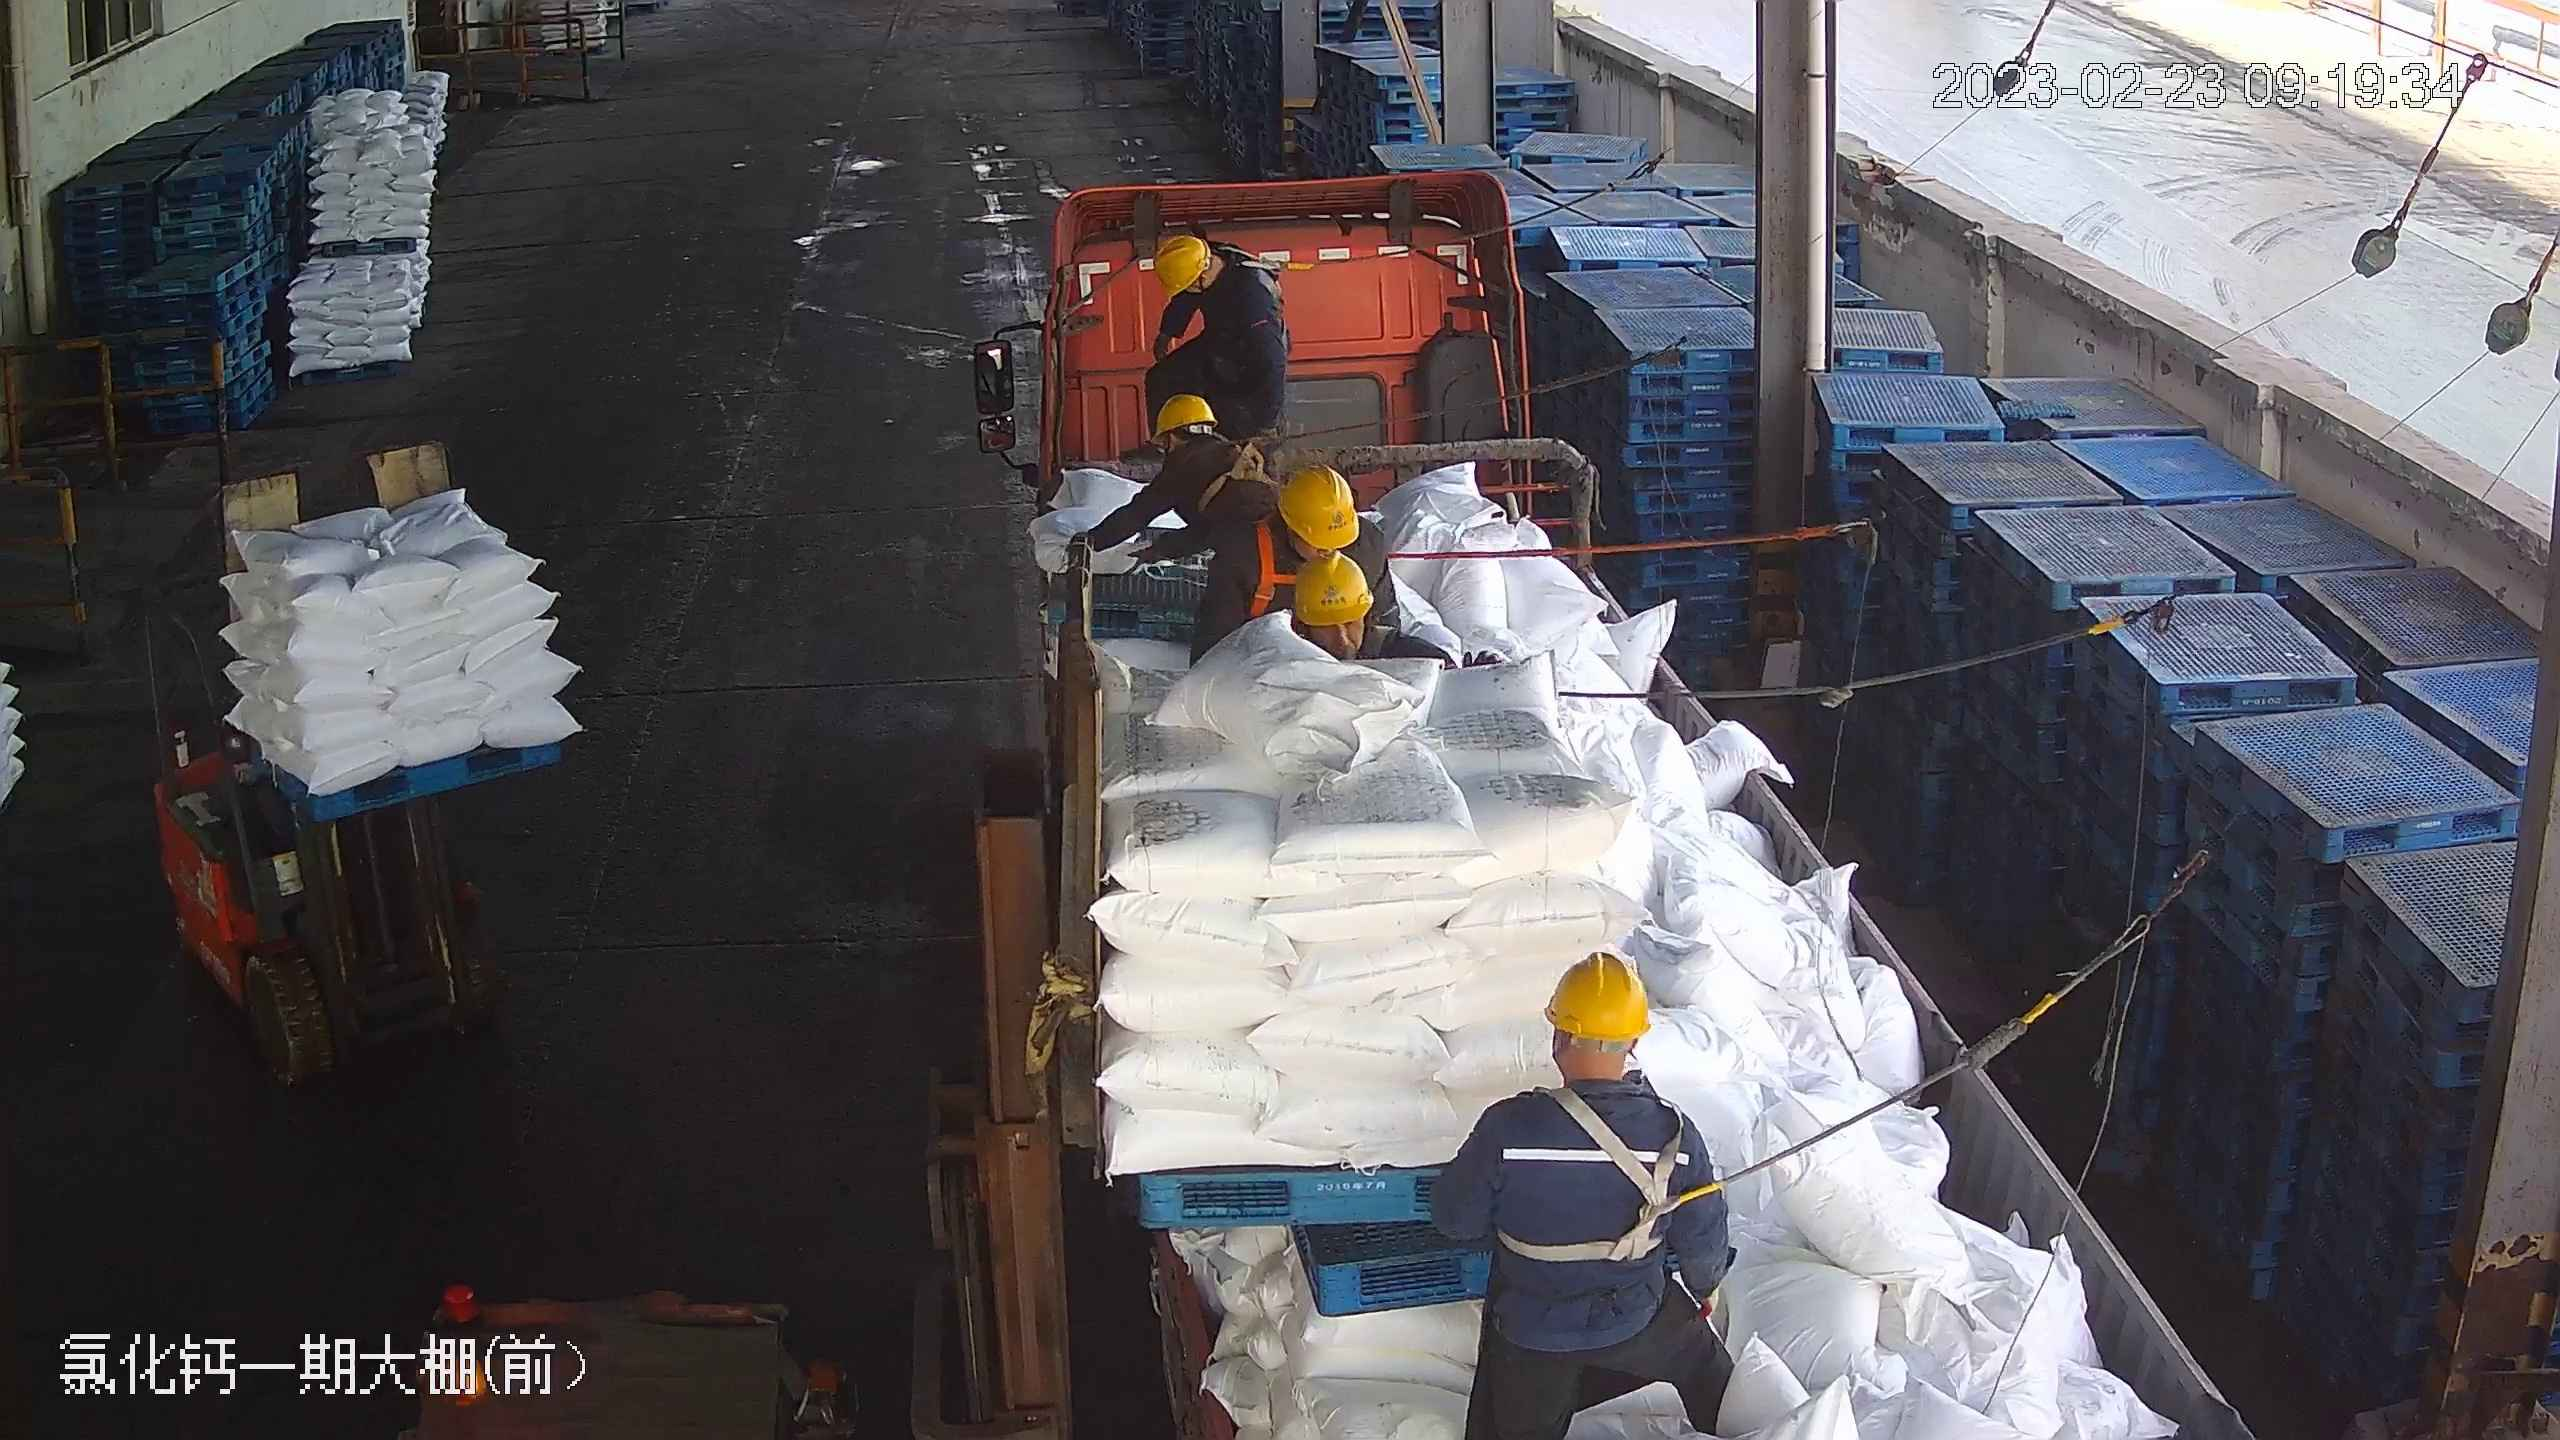belt: (1492, 1076, 1737, 1266), (1231, 513, 1315, 616), (1188, 431, 1279, 510), (1240, 253, 1312, 295)
head: (1473, 950, 1703, 1196), (1203, 464, 1364, 595), (1149, 392, 1259, 500), (1151, 234, 1265, 330)
helmet: (1538, 950, 1654, 1039), (1279, 466, 1358, 548), (1294, 555, 1371, 623), (1153, 233, 1210, 294), (1155, 392, 1219, 438)
people: (1450, 956, 1738, 1440), (1141, 232, 1294, 448)
truck: (997, 171, 2250, 1428)
